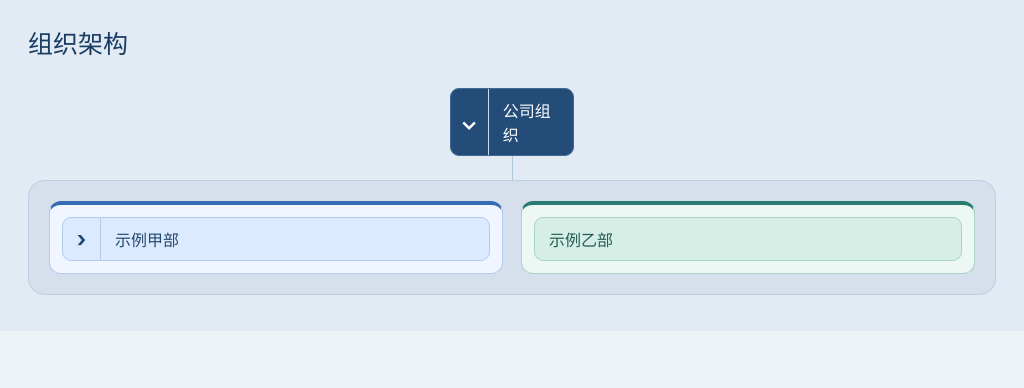
it: clears detail and refreshes structure after generation conflict
Click the button "示例甲部": (147, 240) left=101, top=218, right=489, bottom=260
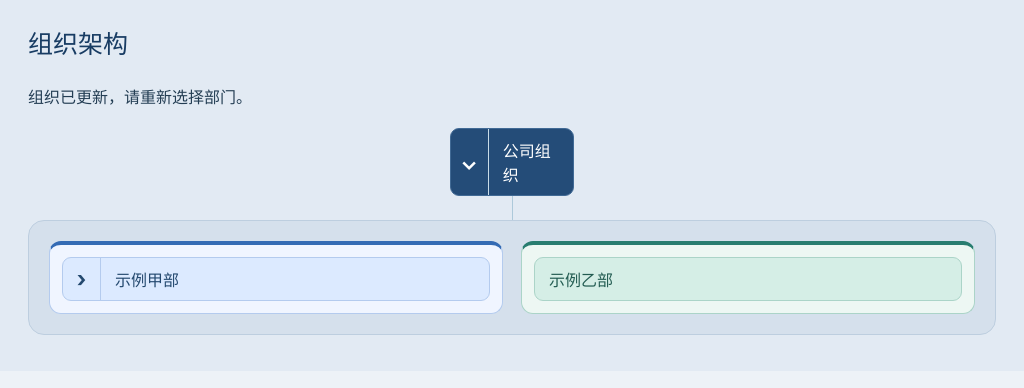
Now the text "组织已更新" is shown, box left=28, top=87, right=252, bottom=107
